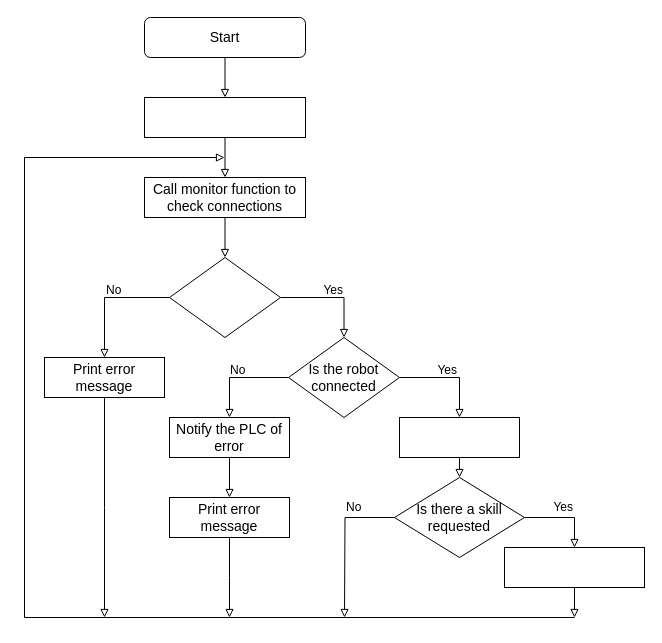
This 662x643 diagram has some shape labels left out. Each missing label, with the centre of its shape:
"Call the skill manager to execute the skill" goes at (574,567).
"Is the PLC connected" goes at (224,297).
"Notify the PLC of ready status" goes at (459,437).
"Startup Sequence" goes at (225,117).
